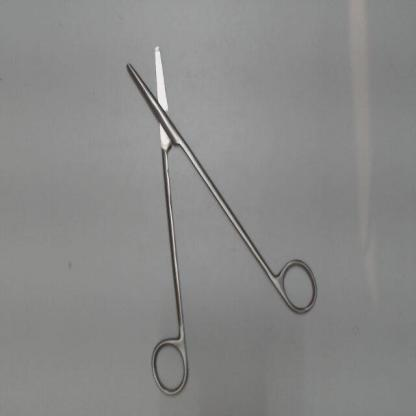9 Metzenbaum Scissors: (122, 35, 324, 401)
